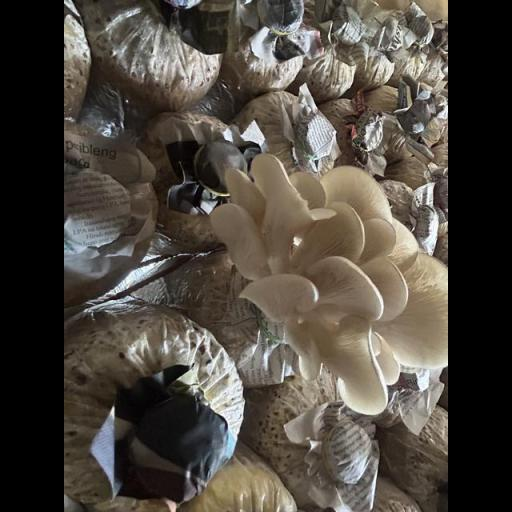White Oyster Mushroom: (204, 143, 443, 395)
